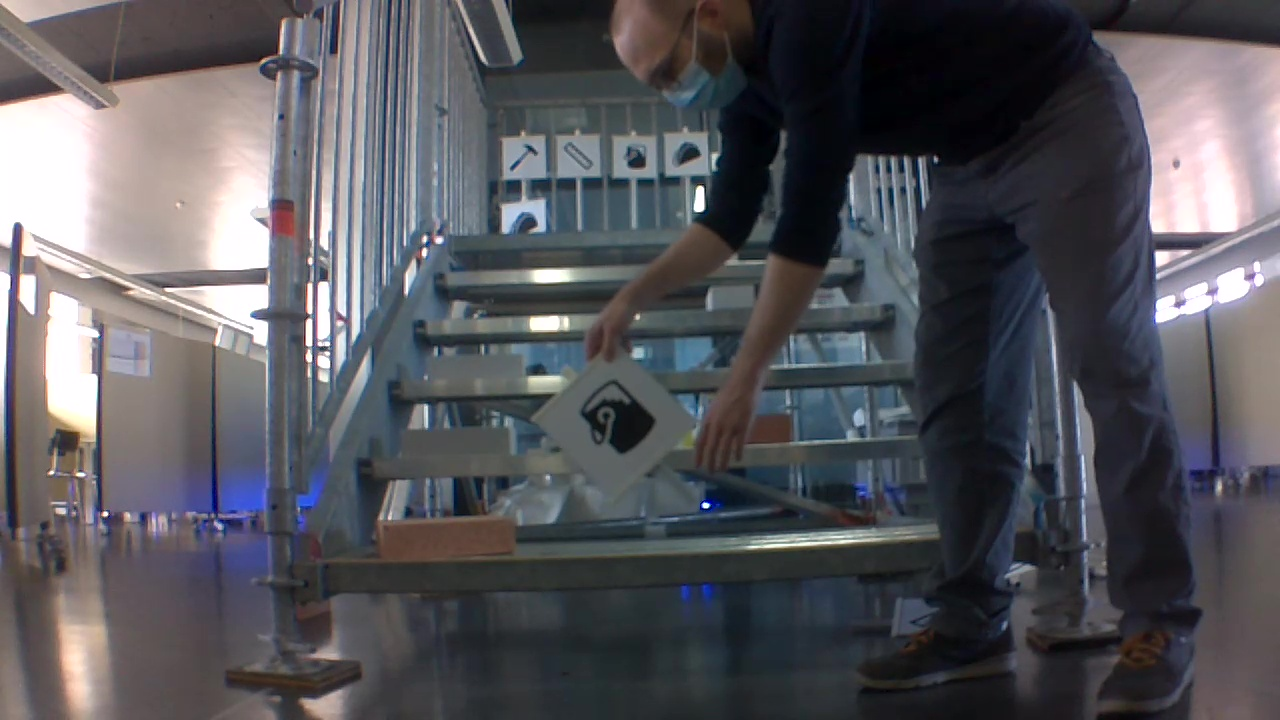brick: (377, 514, 512, 562), (401, 425, 515, 461), (426, 356, 525, 382), (753, 415, 794, 444), (705, 285, 753, 308)
bucket: (575, 377, 658, 459), (619, 139, 648, 170)
edge: (321, 529, 1040, 590)
hammer: (505, 141, 541, 173)
ruler: (561, 136, 596, 173)
taco: (669, 137, 703, 169), (505, 204, 541, 234)
